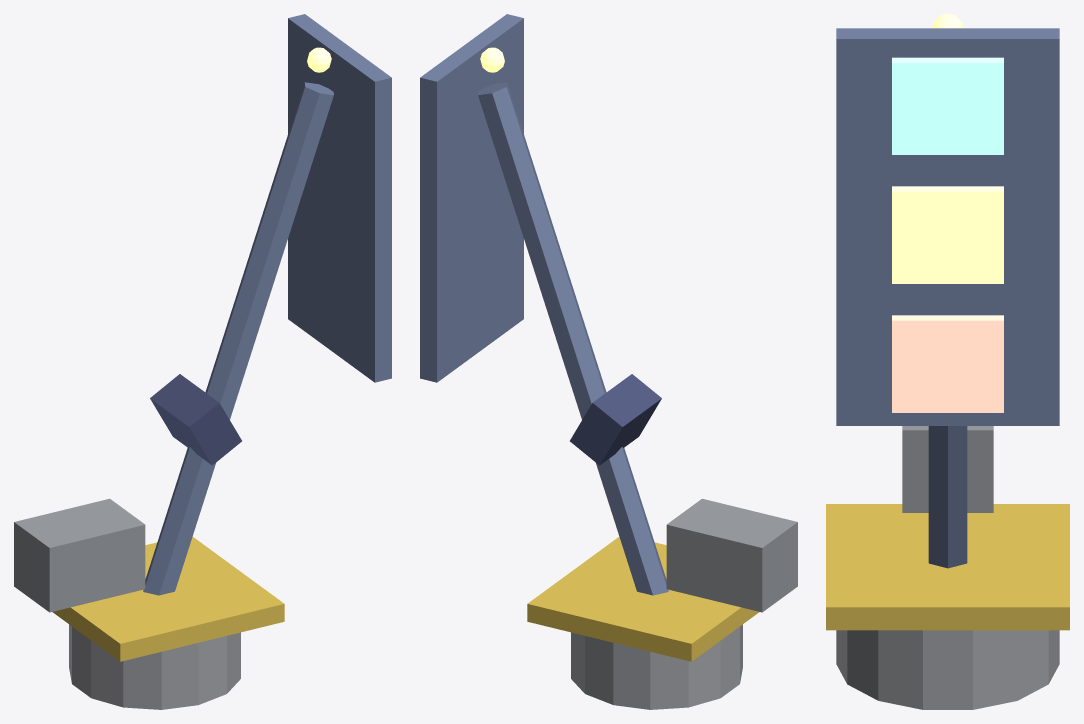
Rendered from traffic_signal.glb.
3 renders of one model, left to right at view 1: azimuth 30°, elevation 25°; view 2: azimuth 150°, elevation 25°; view 3: azimuth 270°, elevation 25°, orthographic. The views are drawn at different scales.
Parts seen in each view (by area): view 1: backboard, mast, base_hz, counter, base, panel; view 2: backboard, mast, base_hz, counter, base, panel; view 3: backboard, base_hz, base, lens_go, lens_hold, lens_stop, mast, counter.
Boxes of the visible parts, left/top/right/bottom form: backboard: left=288, top=14, right=391, bottom=382; mast: left=143, top=82, right=333, bottom=595; base_hz: left=52, top=537, right=284, bottom=661; counter: left=14, top=498, right=145, bottom=612; base: left=69, top=624, right=240, bottom=709; panel: left=150, top=374, right=241, bottom=465; backboard: left=420, top=14, right=523, bottom=382; mast: left=478, top=82, right=668, bottom=595; base_hz: left=527, top=537, right=759, bottom=661; counter: left=666, top=498, right=797, bottom=612; base: left=571, top=624, right=742, bottom=709; panel: left=570, top=374, right=661, bottom=465; backboard: left=836, top=28, right=1059, bottom=425; base_hz: left=826, top=504, right=1069, bottom=630; base: left=836, top=630, right=1059, bottom=709; lens_go: left=892, top=57, right=1003, bottom=154; lens_hold: left=892, top=186, right=1003, bottom=283; lens_stop: left=892, top=315, right=1003, bottom=412; mast: left=928, top=426, right=967, bottom=568; counter: left=902, top=426, right=993, bottom=512.
Bounding box in the file's own units: 4.75 × 8.16 × 2.4.
